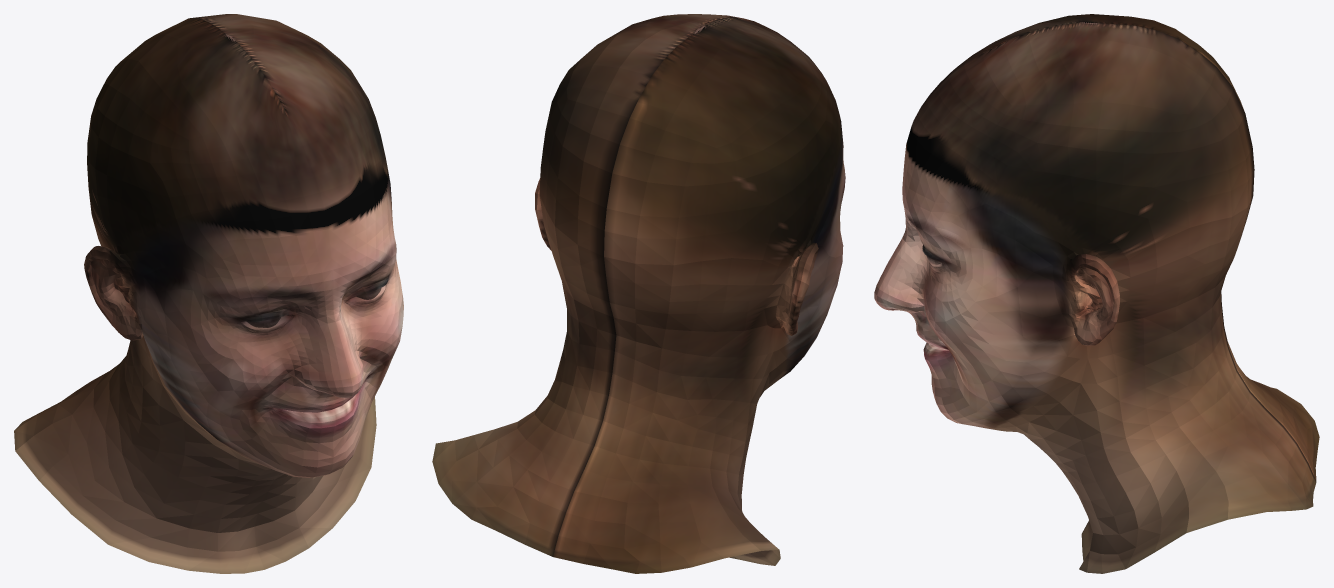
Rendered from face_video_frame0481.obj.
3 views of the same model, side by side, from view 1: azimuth 30°, elevation 25°; view 2: azimuth 150°, elevation 25°; view 3: azimuth 270°, elevation 25° (orthographic). The views are drawn at different scales.
Size of the model in its own units: 0.2132 by 0.3276 by 0.2519.
1 material, 1 textured.
